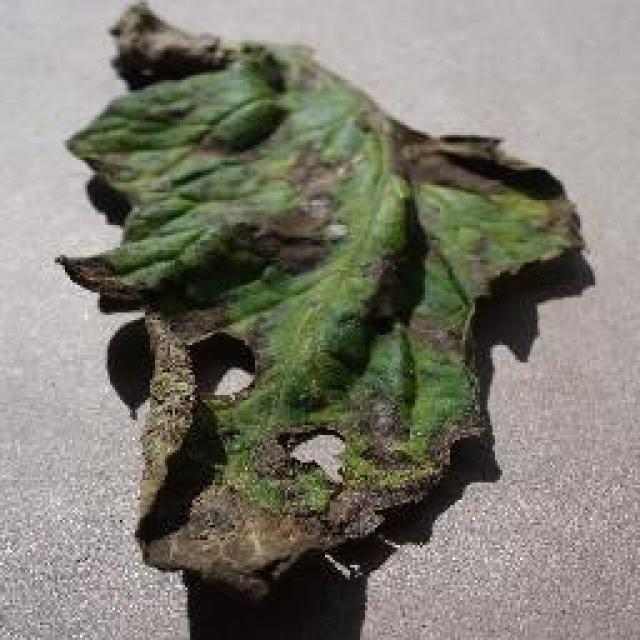Tomato___Early_blight: (51, 0, 588, 598)
